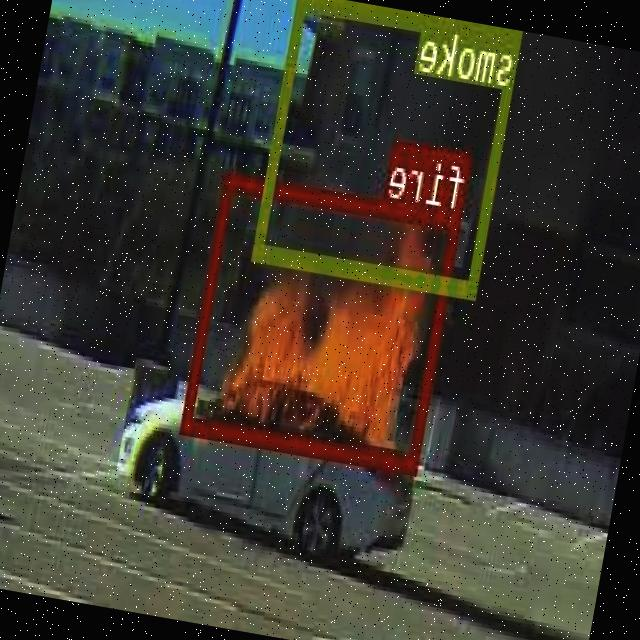fire: (182, 169, 464, 470)
smoke: (254, 0, 523, 296)
